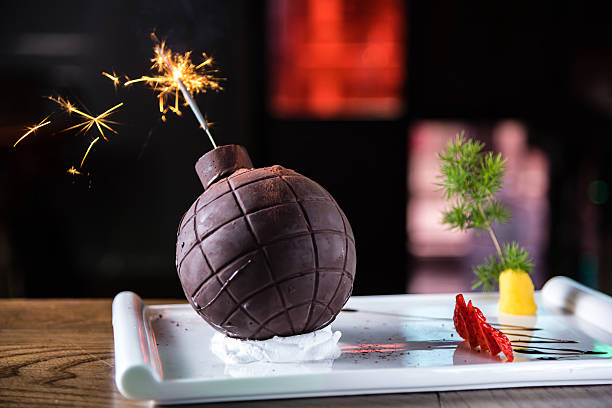e1: (172, 138, 362, 337)
